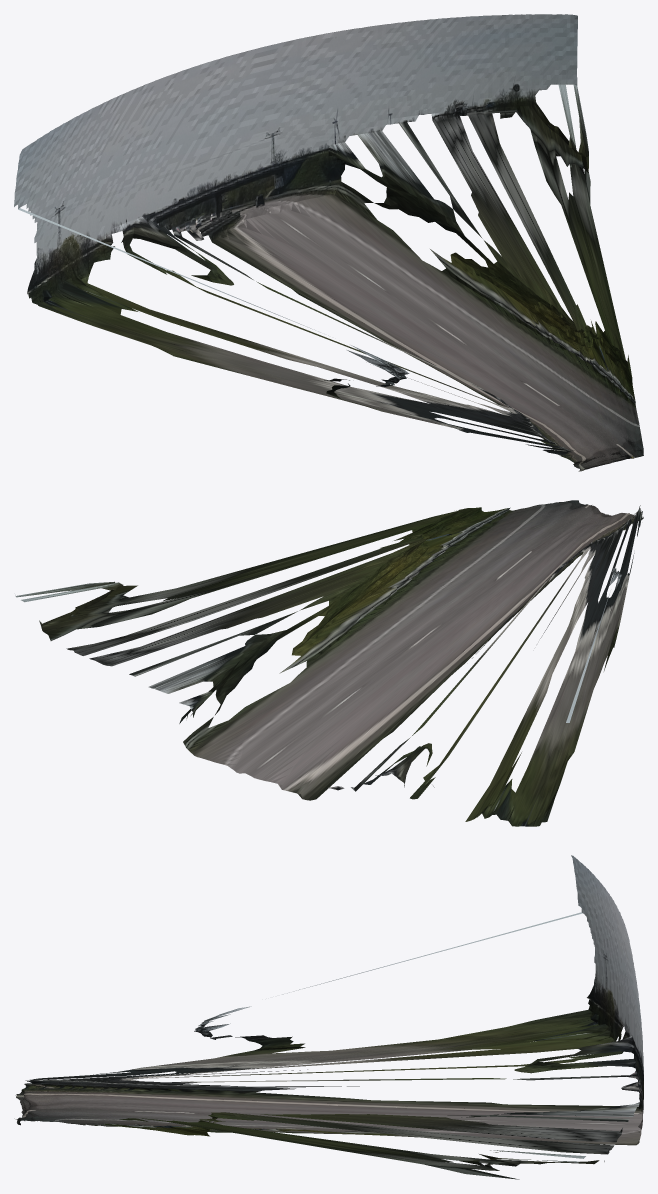
3 renders of one model, top to bottom at view 1: azimuth 30°, elevation 25°; view 2: azimuth 150°, elevation 25°; view 3: azimuth 270°, elevation 25°, orthographic. The views are drawn at different scales.
Visible parts, largest first — view 1: defaultobject; view 2: defaultobject; view 3: defaultobject.
Boxes of the visible parts, x1,y1,x2,y2 form: defaultobject: [14, 14, 643, 471]; defaultobject: [15, 500, 643, 826]; defaultobject: [14, 855, 643, 1179].
Bounding box in the file's own units: 41 × 12.88 × 44.73.
Materials: 1 (1 with a texture image).
